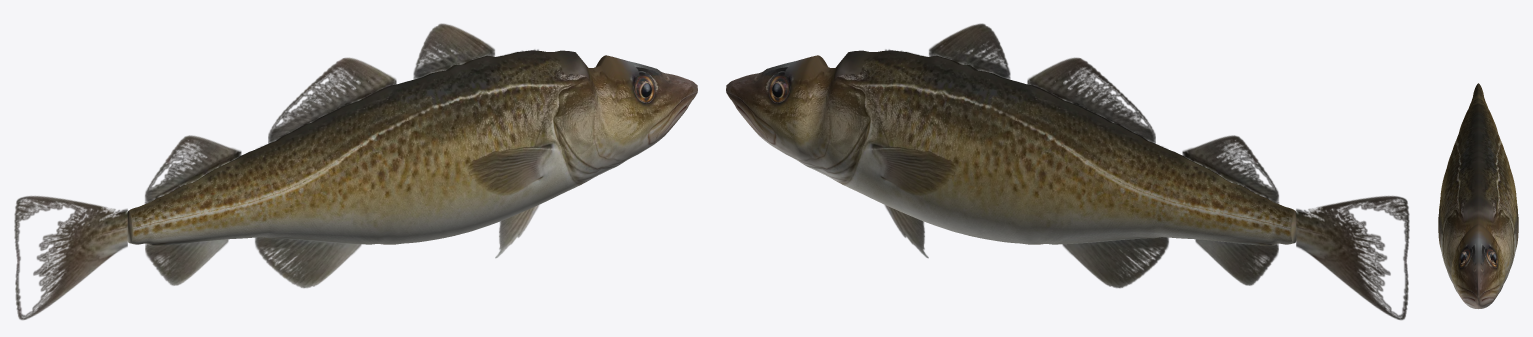
Rendered from gadus_morhua.glb.
The picture shows the model from 3 angles, left to right: view 1: azimuth 30°, elevation 25°; view 2: azimuth 150°, elevation 25°; view 3: azimuth 270°, elevation 25°; orthographic projection. The views are drawn at different scales.
Visible parts, largest first — view 1: gadus_morhua; view 2: gadus_morhua; view 3: gadus_morhua.
Part boxes in pixels (x1,y1,x2,y2): gadus_morhua: [14, 23, 697, 320]; gadus_morhua: [726, 23, 1409, 320]; gadus_morhua: [1438, 83, 1518, 308].
Size of the model in its own units: 1 by 0.3481 by 0.1414.
1 material, 1 textured.
